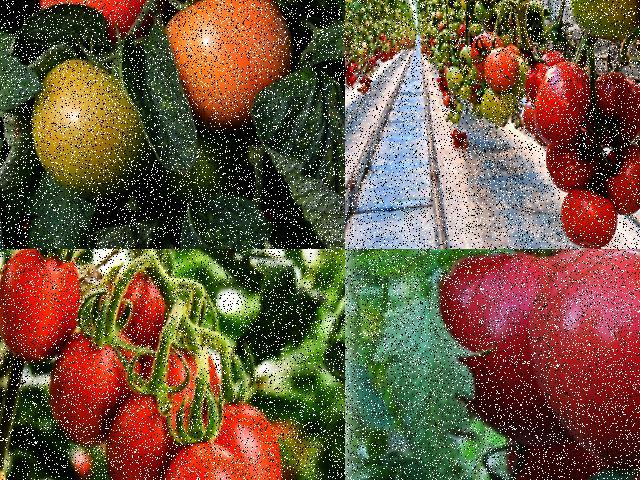tomato: (430, 249, 627, 437), (532, 249, 639, 462), (0, 249, 86, 372), (63, 321, 127, 462), (479, 439, 639, 479), (119, 383, 182, 479), (165, 332, 222, 438), (210, 403, 287, 479), (40, 0, 162, 46), (540, 186, 619, 248), (535, 62, 589, 151), (154, 443, 268, 479), (116, 264, 161, 354), (589, 74, 639, 148), (549, 134, 603, 187), (607, 148, 639, 212)
